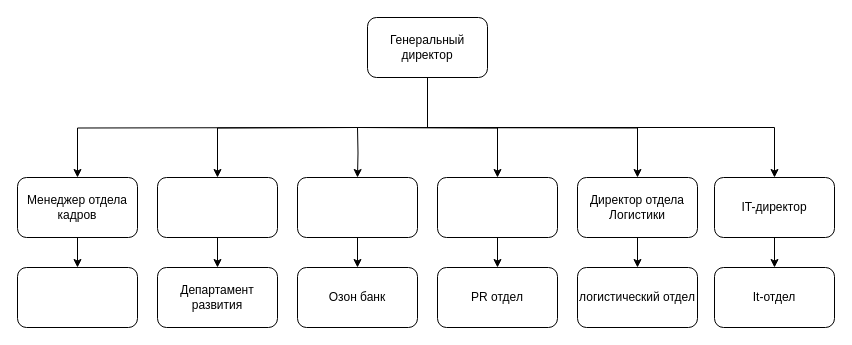
This 852x345 diagram has some shape labels left out. Here are the shapes that lost their labels. From the top down, the box of each, then its label:
(156, 176, 278, 238): Директор по развитию
(296, 176, 418, 238): Финансовый Директор
(436, 176, 558, 238): Директор по связи с общественностью
(16, 266, 138, 328): HR отдел
